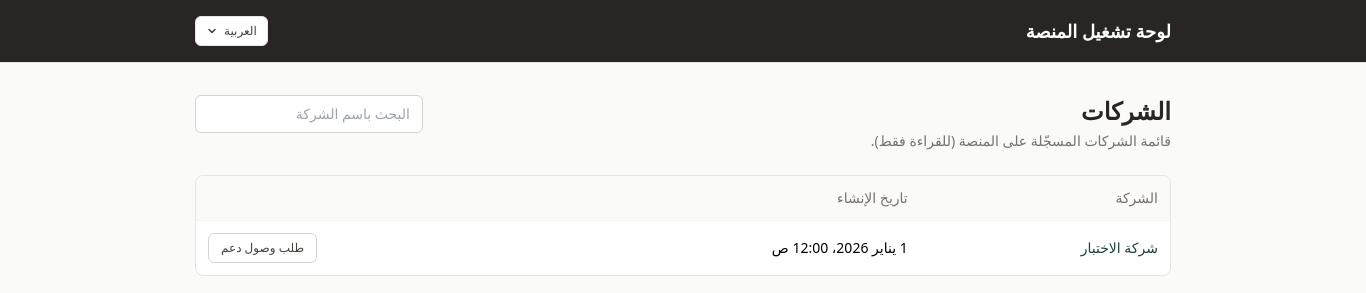
it: <PlatformOrganizations/> — organization search › shows a search-specific empty message when a search yields no matches
Expected: the link "شركة الاختبار" is shown, 1081,238 -> 1158,257
Type "لا يوجد" into the search field with placeholder "البحث باسم الشركة". click: (309, 114)
box: 195,95 -> 423,133
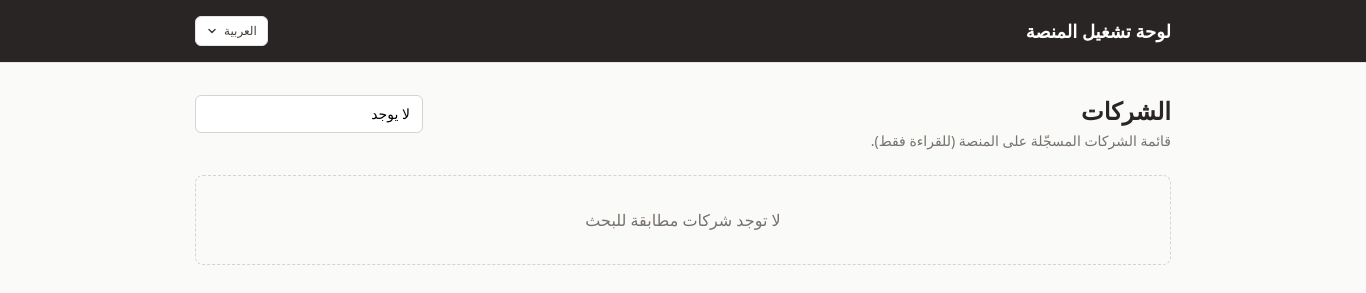
Result: the text "لا توجد شركات مطابقة للبحث" is shown at 585,209 -> 781,231
